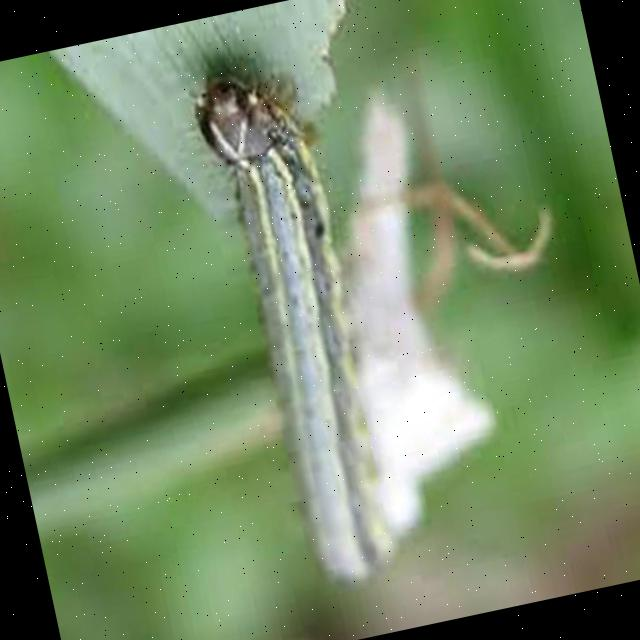worm: (186, 54, 415, 602)
